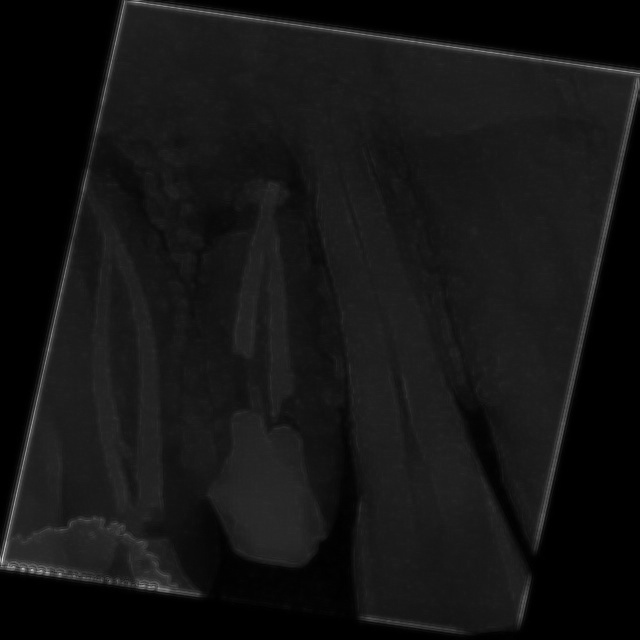Class 0- No endodontic treatment: (2, 151, 258, 582)
Class 1- complete endodontic treatment: (73, 114, 468, 610)
